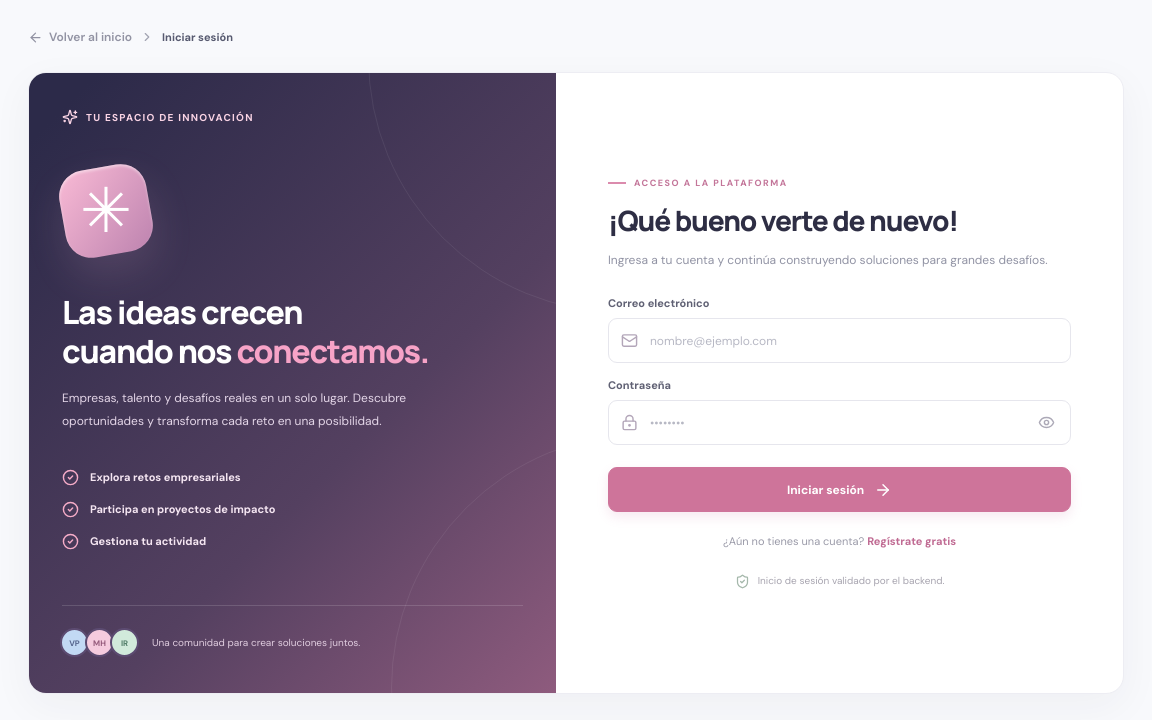
it: LoginPage › muestra el mensaje del backend cuando las credenciales son incorrectas
Type "ana@nexo.co" into the field with placeholder "nombre@ejemplo.com".
click(853, 341); type("ana@nexo.co")  # box [648,319,1058,362]
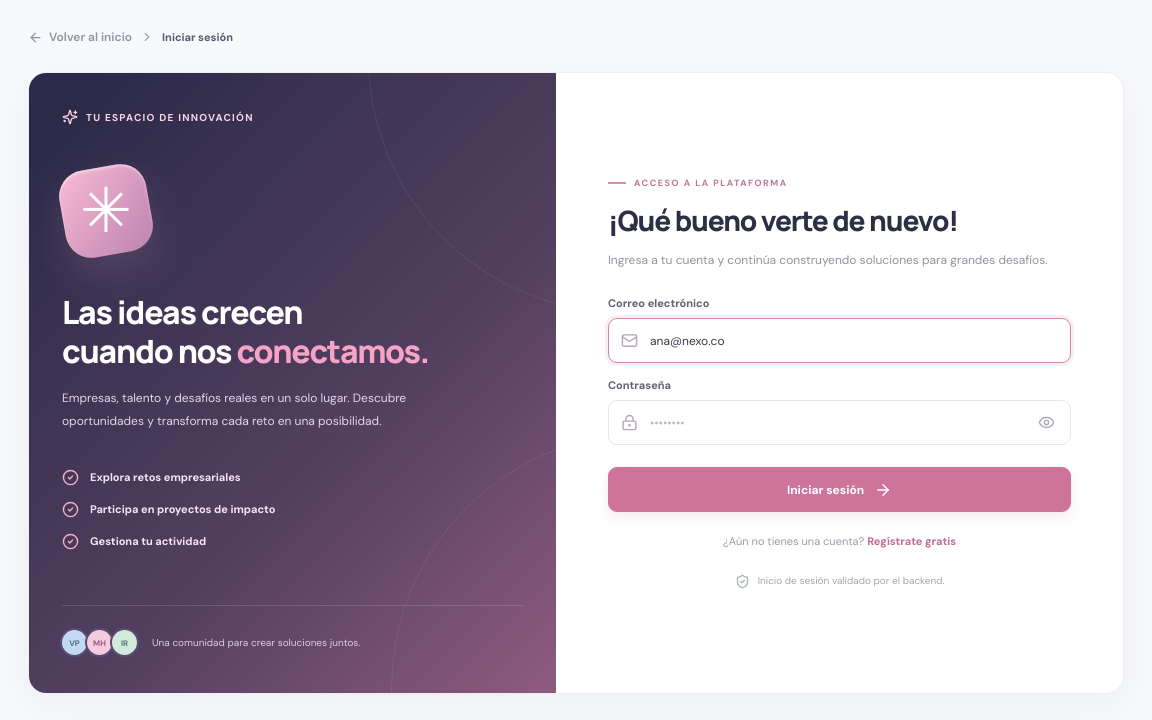
Type "mala" into the password field with placeholder "••••••••".
click(837, 423); type("mala")  # box [648,401,1025,444]
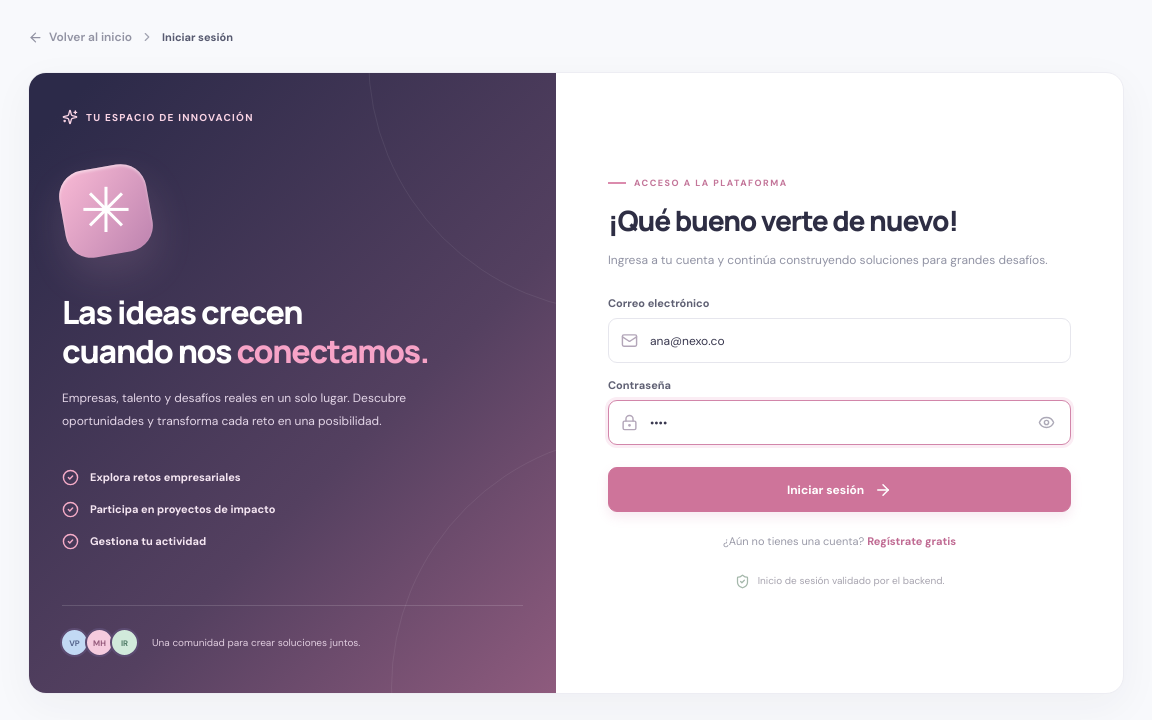
Click the button "Iniciar sesión".
click(840, 490)  # box [608,467,1071,512]
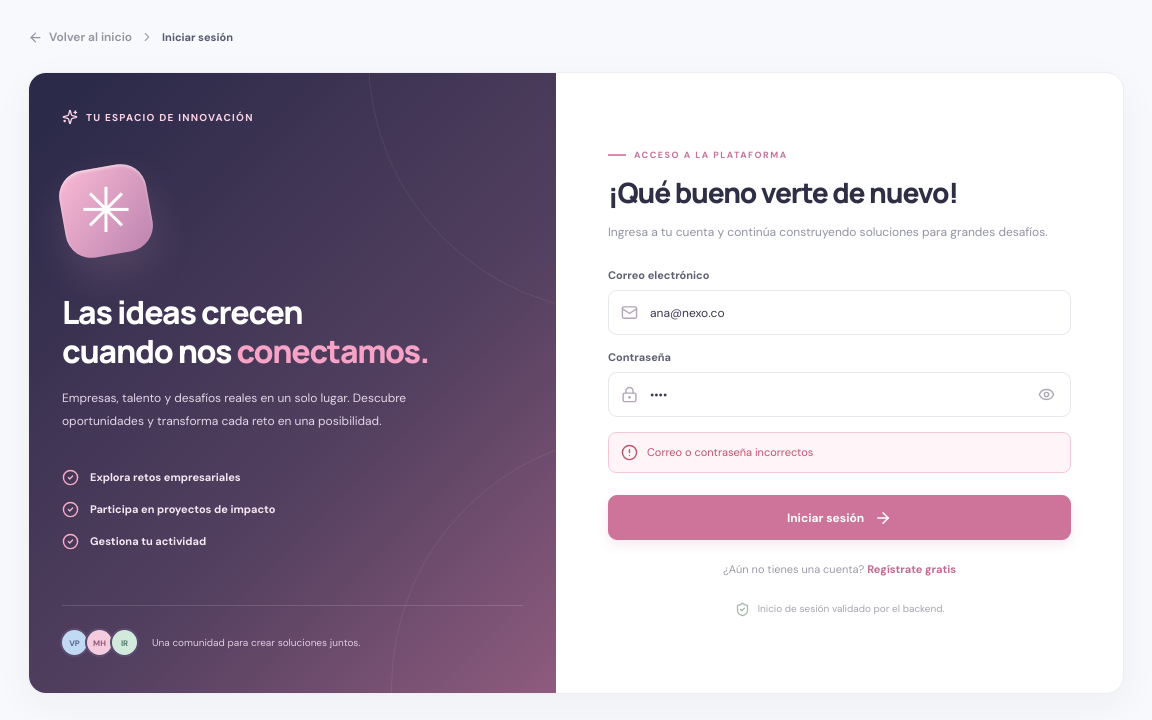
Expected: the message reads "Correo o contraseña incorrectos", [647,445,813,459]
